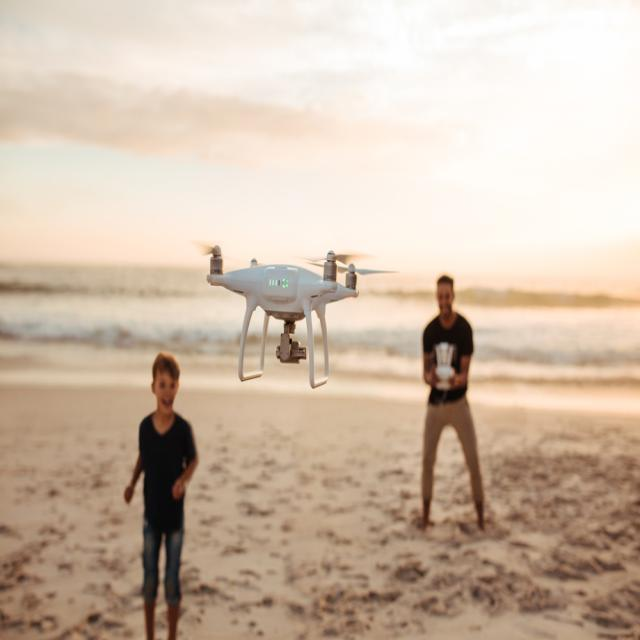drone: (180, 234, 402, 390)
